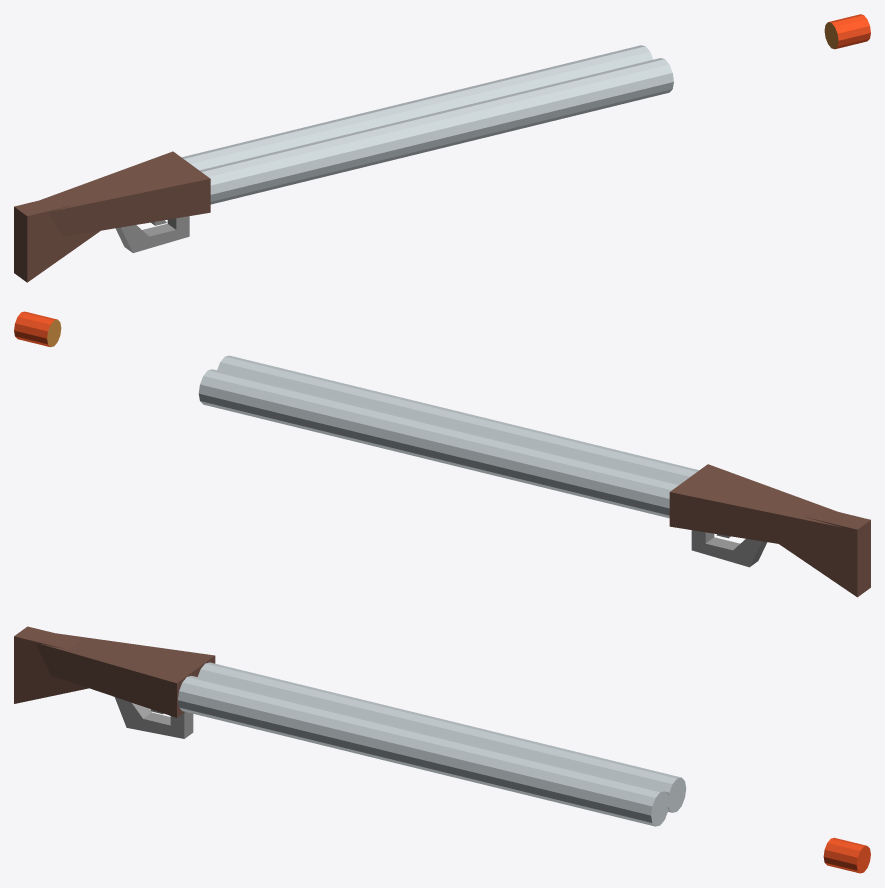
3 renders of one model, top to bottom at view 1: azimuth 30°, elevation 25°; view 2: azimuth 150°, elevation 25°; view 3: azimuth 330°, elevation 25°, orthographic.
Parts seen in each view (by area): view 1: group_821843910, group_1135802683, group_2028571050, mesh_847175933; view 2: group_821843910, group_1135802683, group_2028571050, mesh_847175933; view 3: group_821843910, group_1135802683, group_2028571050, mesh_847175933.
Part boxes in pixels (bbox=[...]): group_821843910: bbox=[182, 45, 673, 204]; group_1135802683: bbox=[14, 151, 210, 282]; group_2028571050: bbox=[115, 216, 189, 252]; mesh_847175933: bbox=[824, 14, 870, 49]; group_821843910: bbox=[198, 355, 699, 518]; group_1135802683: bbox=[669, 464, 870, 597]; group_2028571050: bbox=[691, 530, 767, 567]; mesh_847175933: bbox=[14, 311, 61, 347]; group_821843910: bbox=[178, 662, 686, 826]; group_1135802683: bbox=[14, 626, 215, 717]; group_2028571050: bbox=[114, 697, 193, 738]; mesh_847175933: bbox=[823, 837, 870, 873].
Size of the model in its own units: 618 by 50 by 48.
